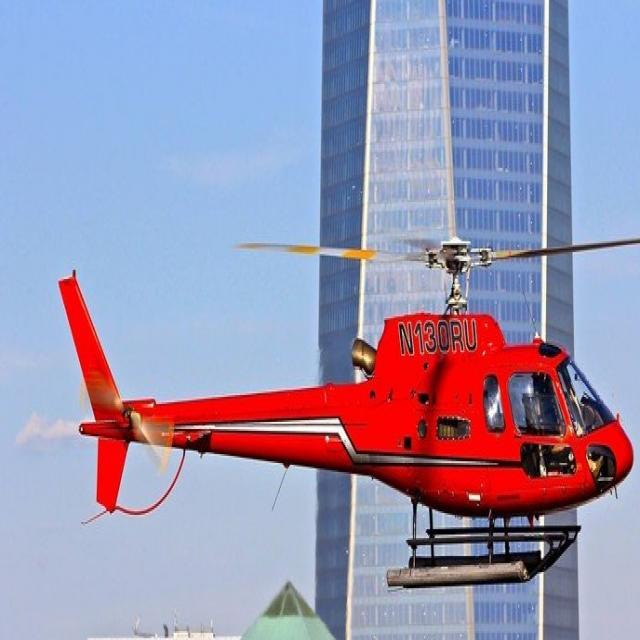helicopter: (47, 201, 640, 603)
